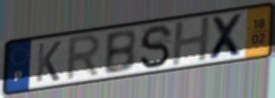B: (102, 28, 138, 77)
H: (170, 14, 213, 68)
K: (34, 40, 63, 85)
R: (63, 32, 104, 84)
S: (138, 23, 174, 71)
X: (208, 11, 247, 62)
